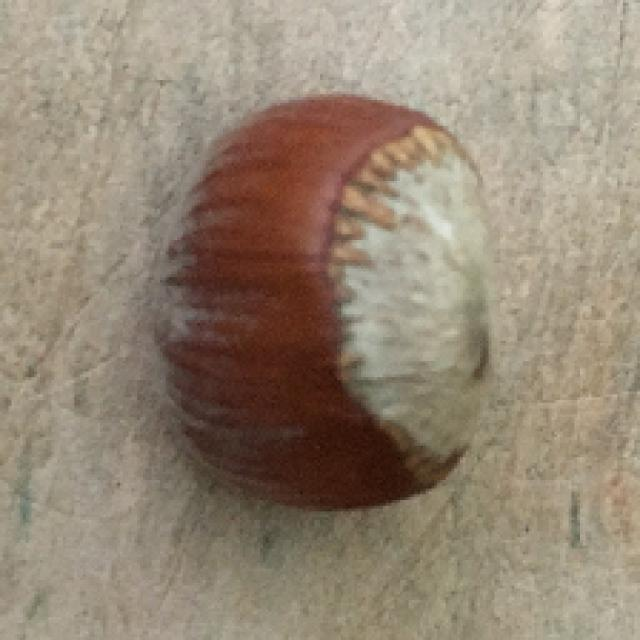QualityHazelnut: (155, 93, 499, 512)
